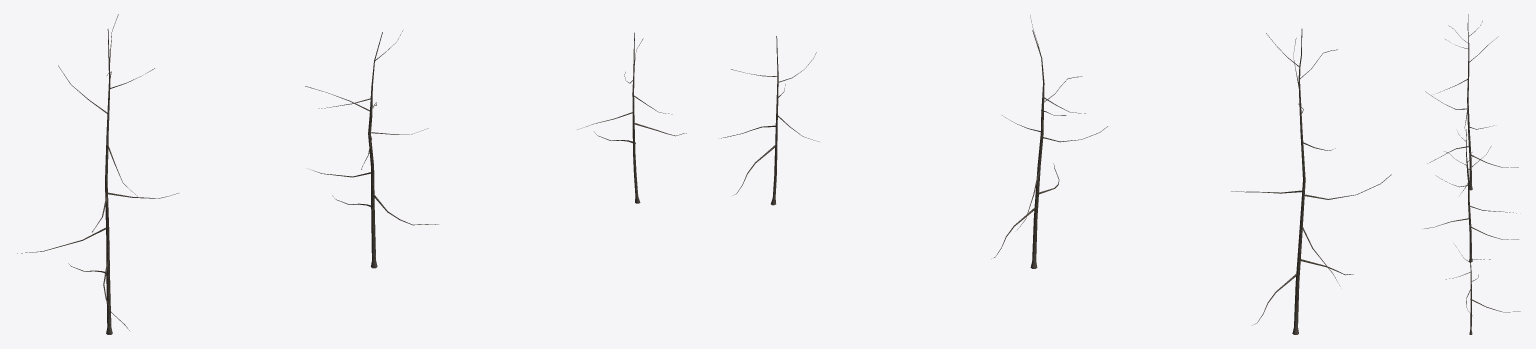
Rendered from fir_sapling_wood.glb.
The picture shows the model from 3 angles, left to right: view 1: azimuth 30°, elevation 25°; view 2: azimuth 150°, elevation 25°; view 3: azimuth 270°, elevation 25°; orthographic projection. The views are drawn at different scales.
Parts seen in each view (by area): view 1: fir_sapling_a, fir_sapling_b, fir_sapling_c; view 2: fir_sapling_a, fir_sapling_b, fir_sapling_c; view 3: fir_sapling_a, fir_sapling_b, fir_sapling_c.
Boxes of the visible parts, x1=… form: fir_sapling_a: x1=17, y1=14, x2=178, y2=334; fir_sapling_b: x1=305, y1=31, x2=438, y2=268; fir_sapling_c: x1=577, y1=32, x2=686, y2=203; fir_sapling_a: x1=1231, y1=29, x2=1391, y2=334; fir_sapling_b: x1=994, y1=15, x2=1107, y2=268; fir_sapling_c: x1=721, y1=36, x2=819, y2=205; fir_sapling_a: x1=1425, y1=14, x2=1518, y2=190; fir_sapling_b: x1=1422, y1=129, x2=1518, y2=262; fir_sapling_c: x1=1445, y1=237, x2=1520, y2=334.
Size of the model in its own units: 2.48 by 1.12 by 0.5858.
Materials: 1 (1 with a texture image).
